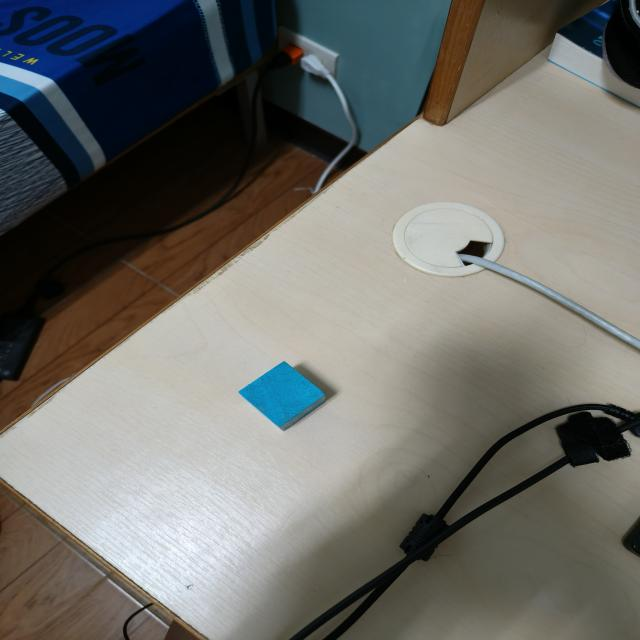blue_block: (237, 361, 329, 431)
